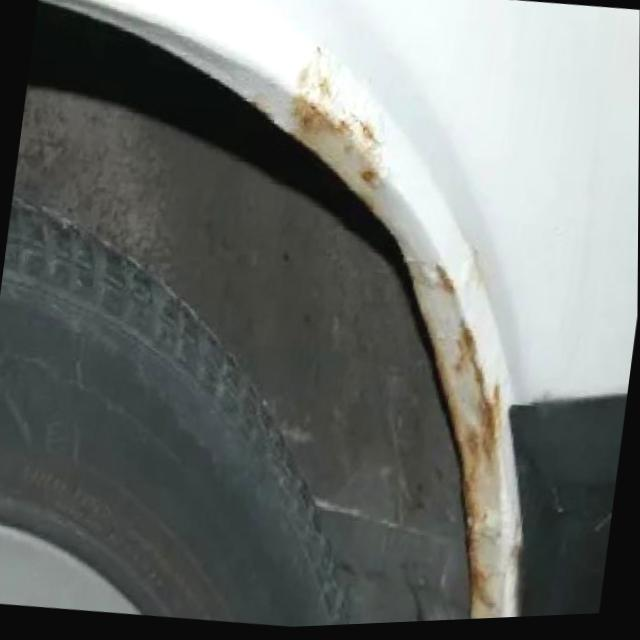Rust: (426, 262, 506, 613), (244, 46, 388, 228)
